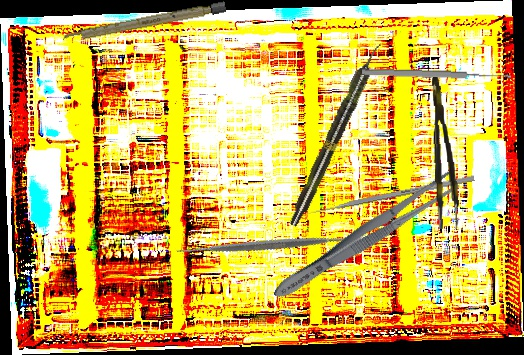Dressing Forceps: (267, 166, 463, 307)
Handpiece: (285, 39, 386, 230)
Pusher: (303, 174, 475, 218)
Scalpel Handle: (61, 1, 227, 44)
Spatula Surgical: (169, 145, 367, 344)
Surgical Spoon: (361, 67, 512, 82)
Tissue Forceps: (430, 76, 460, 230)
